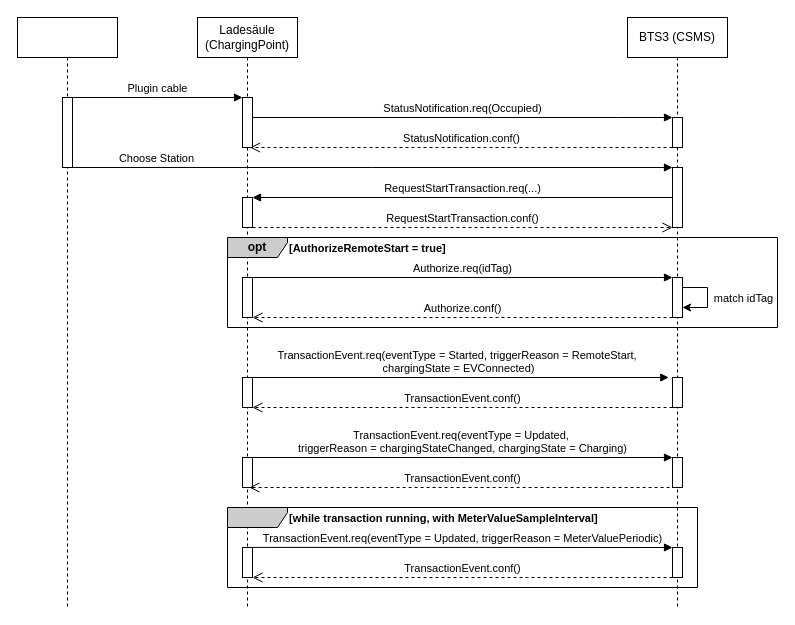
Some shapes in this 795 by 625 pixel diagram are drawn without their labels. Each missing label, with the box of its shape:
Driver: (16, 16, 118, 608)
loop: (226, 506, 698, 588)
